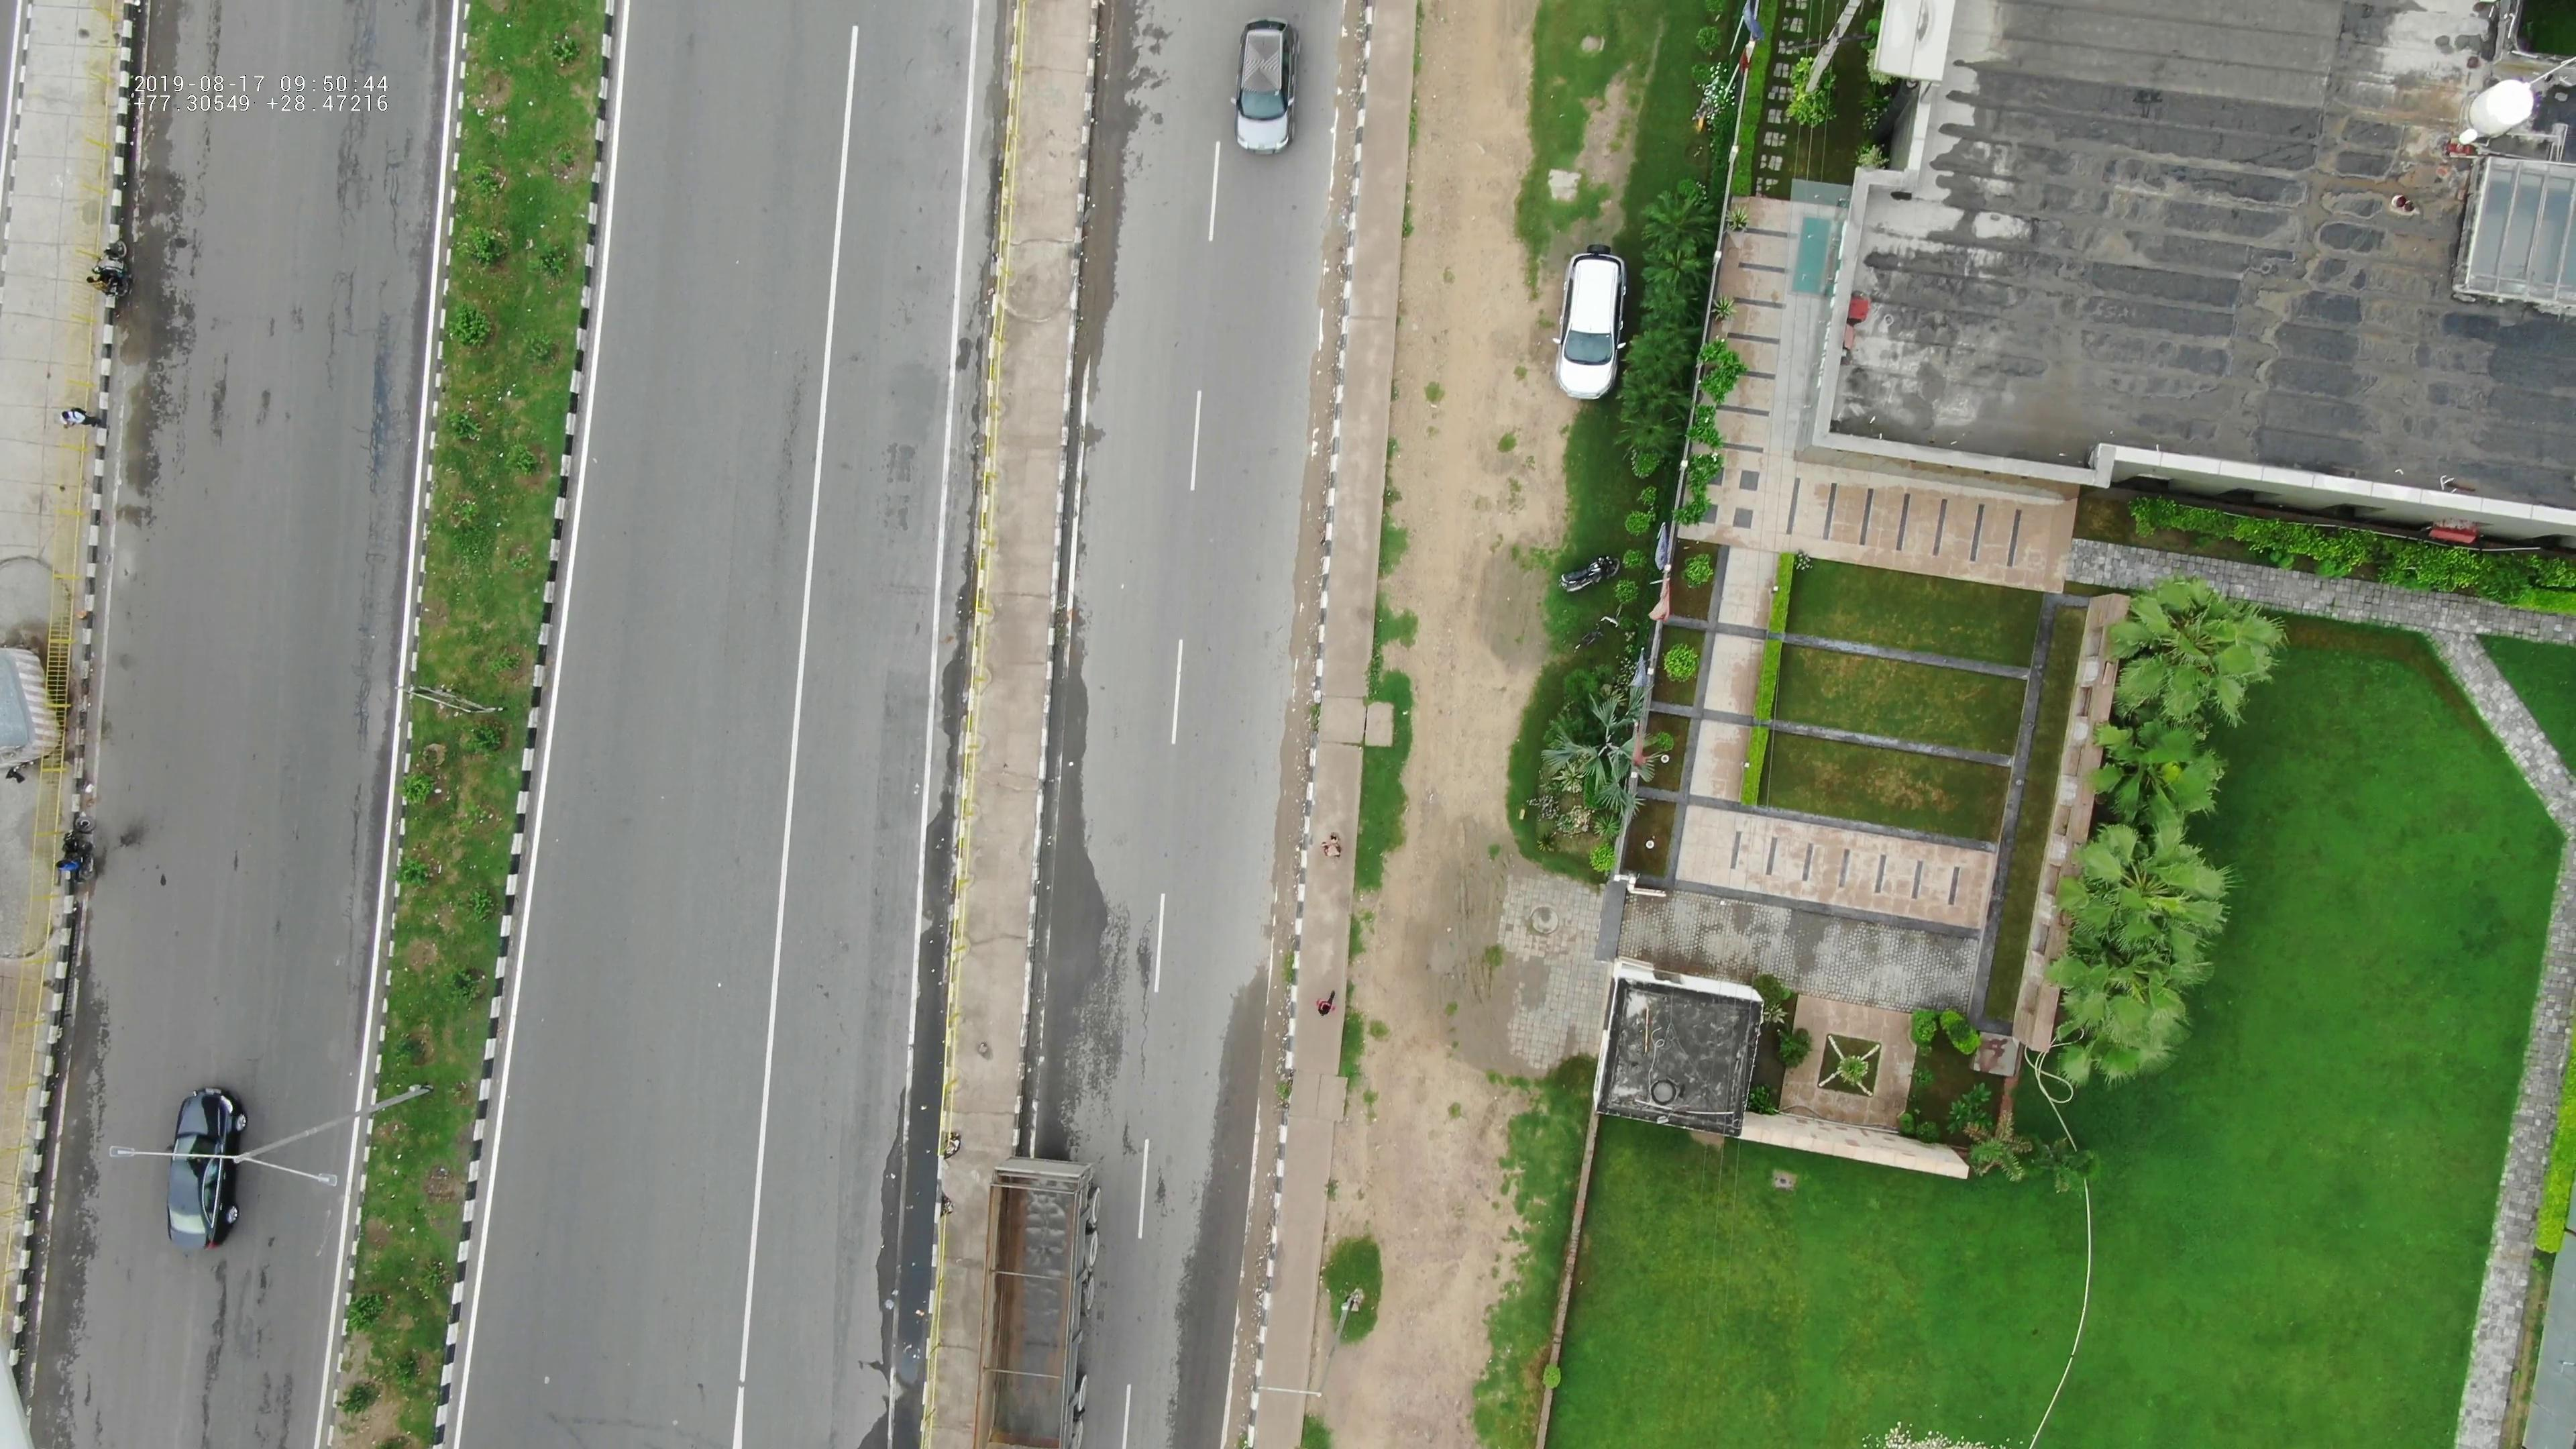Alligator_cracks: (326, 23, 426, 474), (340, 515, 396, 872)
Hair _cracks: (1118, 888, 1178, 1097)
Ravelling: (184, 1249, 303, 1445)
Waterlogging: (863, 1028, 948, 1375)
